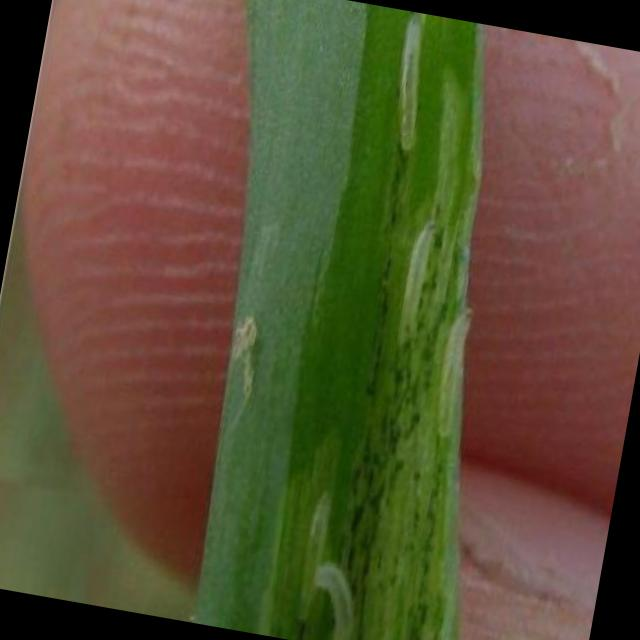whorl-maggot: (378, 12, 441, 154), (278, 484, 336, 632), (428, 294, 482, 440), (388, 211, 442, 350), (303, 557, 374, 640)
